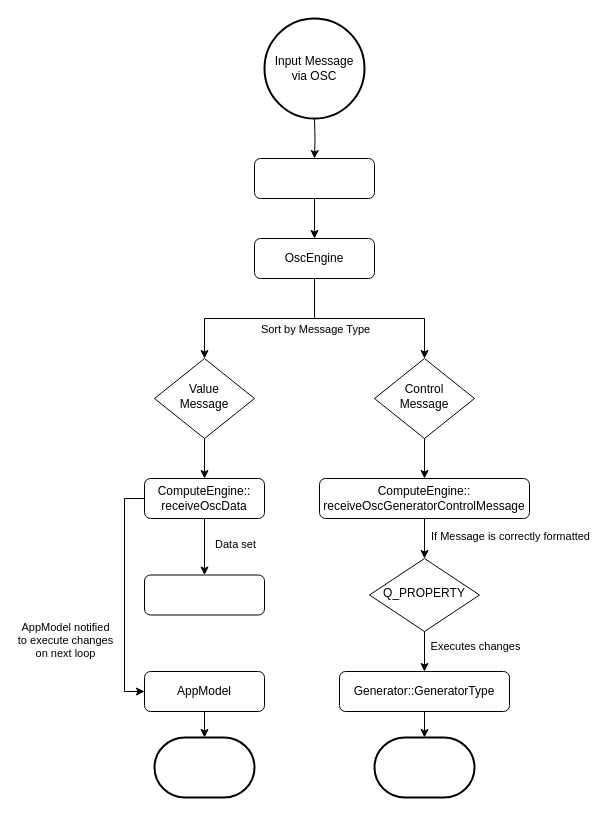
Some shapes in this 606 by 815 pixel diagram are drawn without their labels. The shapes that lost their labels are listed below. From the top down, each one's centre as x and y in pixels, then its label:
At point 314,178: "OscReceiver".
At point 204,594: "GeneratorRegionSet".
At point 204,767: "GUI Lattice (changes reflected)".
At point 424,767: "GUI Parameter Menu (changes reflected)".
